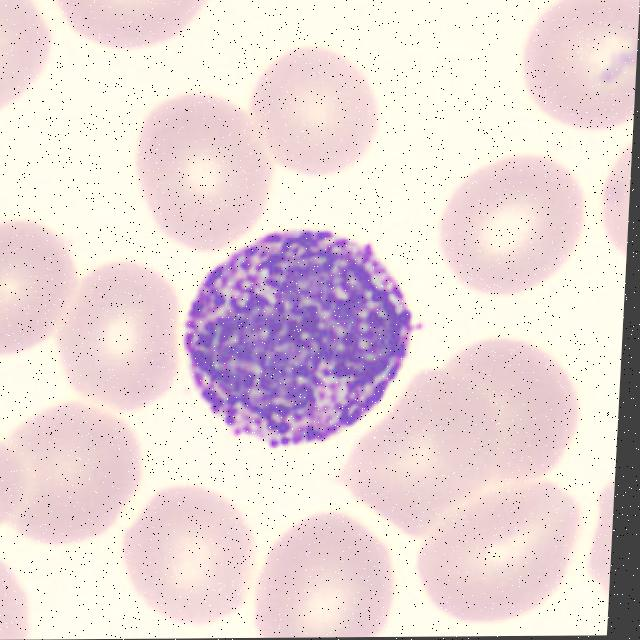basophil: (175, 224, 419, 444)
rbc: (416, 316, 588, 495), (424, 150, 583, 299), (0, 394, 143, 557), (415, 484, 584, 619), (342, 369, 493, 515), (121, 93, 268, 239), (242, 37, 388, 182), (113, 484, 261, 623), (503, 0, 640, 136), (60, 264, 184, 406), (253, 521, 397, 638), (53, 0, 208, 53), (0, 0, 52, 116), (585, 144, 631, 253), (0, 405, 36, 537), (585, 456, 616, 596), (0, 547, 33, 640)
